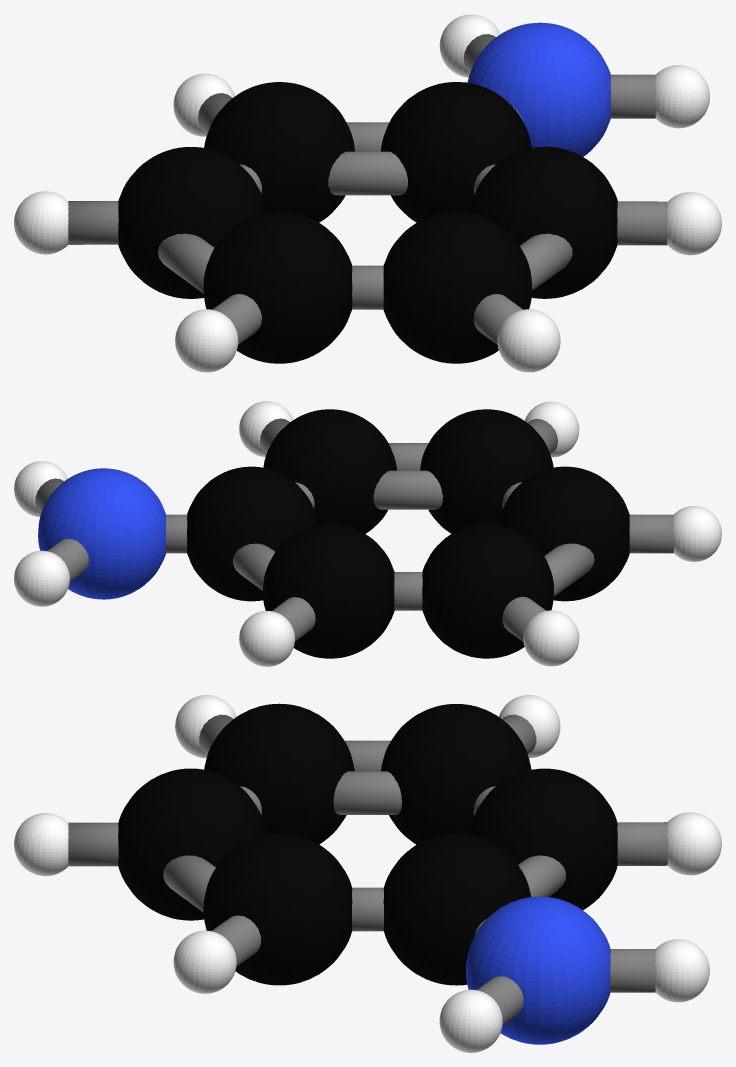
File: ANILINA.obj
3 renders of one model, top to bottom at view 1: azimuth 30°, elevation 25°; view 2: azimuth 150°, elevation 25°; view 3: azimuth 270°, elevation 25°, orthographic. The views are drawn at different scales.
Parts seen in each view (by area): view 1: Carbon_ball_Sphere, Hydrogen_ball_Sphere.001, Nitrogen_ball_Sphere.002, Stick_Cylinder.014_Cylinder.014, Stick_Cylinder.008_Cylinder.008, Stick_Cylinder.002_Cylinder.002, Stick_Cylinder.015_Cylinder.015, Stick_Cylinder.013_Cylinder.013, Stick_Cylinder.016_Cylinder.016, Stick_Cylinder.003_Cylinder.003, Stick_Cylinder.004_Cylinder.004, Stick_Cylinder.006_Cylinder.006 (+2 smaller); view 2: Carbon_ball_Sphere, Hydrogen_ball_Sphere.001, Nitrogen_ball_Sphere.002, Stick_Cylinder.005_Cylinder.005, Stick_Cylinder.004_Cylinder.004, Stick_Cylinder.015_Cylinder.015, Stick_Cylinder.009_Cylinder.009, Stick_Cylinder.001_Cylinder.001, Stick_Cylinder.002_Cylinder.002, Stick_Cylinder.011_Cylinder.011, Stick_Cylinder.012_Cylinder.012, Stick_Cylinder.010_Cylinder.010 (+4 smaller); view 3: Carbon_ball_Sphere, Hydrogen_ball_Sphere.001, Nitrogen_ball_Sphere.002, Stick_Cylinder_Cylinder, Stick_Cylinder.006_Cylinder.006, Stick_Cylinder.011_Cylinder.011, Stick_Cylinder.012_Cylinder.012, Stick_Cylinder.016_Cylinder.016, Stick_Cylinder.009_Cylinder.009, Stick_Cylinder.007_Cylinder.007, Stick_Cylinder.008_Cylinder.008, Stick_Cylinder.013_Cylinder.013 (+3 smaller).
Part boxes in pixels (x1,y1,x2,y2): Carbon_ball_Sphere: (118, 82, 617, 363); Hydrogen_ball_Sphere.001: (14, 14, 721, 372); Nitrogen_ball_Sphere.002: (467, 22, 610, 156); Stick_Cylinder.014_Cylinder.014: (328, 151, 408, 195); Stick_Cylinder.008_Cylinder.008: (617, 201, 667, 245); Stick_Cylinder.002_Cylinder.002: (68, 201, 118, 244); Stick_Cylinder.015_Cylinder.015: (158, 233, 214, 293); Stick_Cylinder.013_Cylinder.013: (610, 74, 655, 118); Stick_Cylinder.016_Cylinder.016: (520, 233, 572, 290); Stick_Cylinder.003_Cylinder.003: (352, 265, 383, 309); Stick_Cylinder.004_Cylinder.004: (212, 294, 261, 344); Stick_Cylinder.006_Cylinder.006: (473, 294, 522, 344); Carbon_ball_Sphere: (187, 409, 629, 658); Hydrogen_ball_Sphere.001: (14, 401, 721, 666); Nitrogen_ball_Sphere.002: (38, 468, 166, 599); Stick_Cylinder.005_Cylinder.005: (373, 470, 442, 509); Stick_Cylinder.004_Cylinder.004: (629, 514, 673, 553); Stick_Cylinder.015_Cylinder.015: (544, 543, 594, 596); Stick_Cylinder.009_Cylinder.009: (233, 543, 274, 590); Stick_Cylinder.001_Cylinder.001: (394, 572, 422, 610); Stick_Cylinder.002_Cylinder.002: (502, 597, 546, 641); Stick_Cylinder.011_Cylinder.011: (272, 597, 315, 641); Stick_Cylinder.012_Cylinder.012: (47, 538, 88, 581); Stick_Cylinder.010_Cylinder.010: (166, 514, 187, 553); Carbon_ball_Sphere: (118, 703, 617, 985); Hydrogen_ball_Sphere.001: (14, 695, 721, 1052); Nitrogen_ball_Sphere.002: (465, 896, 610, 1044); Stick_Cylinder_Cylinder: (333, 771, 401, 814); Stick_Cylinder.006_Cylinder.006: (68, 822, 118, 866); Stick_Cylinder.011_Cylinder.011: (617, 822, 667, 865); Stick_Cylinder.012_Cylinder.012: (610, 949, 655, 992); Stick_Cylinder.016_Cylinder.016: (163, 855, 215, 912); Stick_Cylinder.009_Cylinder.009: (518, 855, 565, 896); Stick_Cylinder.007_Cylinder.007: (352, 887, 383, 931); Stick_Cylinder.008_Cylinder.008: (211, 915, 260, 966); Stick_Cylinder.013_Cylinder.013: (477, 976, 523, 1025).
Bounding box in the file's own units: 6.92 × 1.39 × 6.45.
